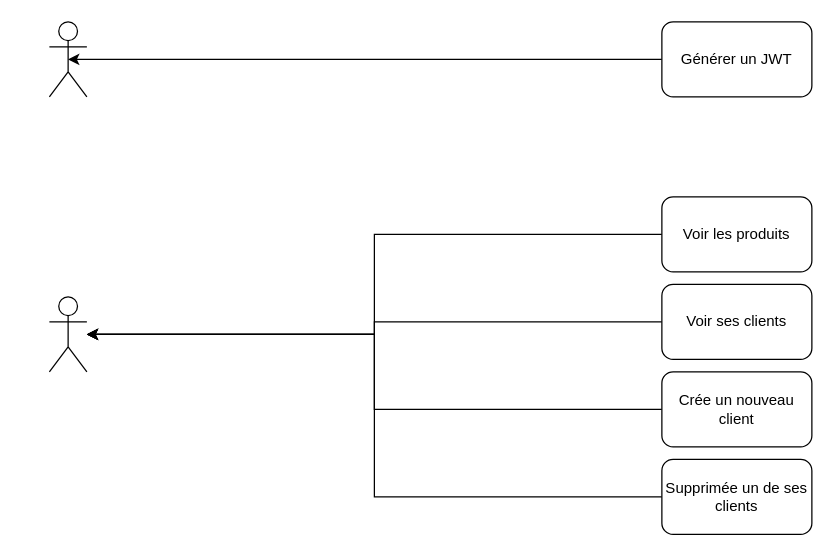
Some shapes in this 834 by 556 pixel diagram are drawn without their labels. Here are the shapes that lost their labels. From the top down, the centre of each, then its label:
point (67, 59): Non connecté
point (67, 334): Connecté
